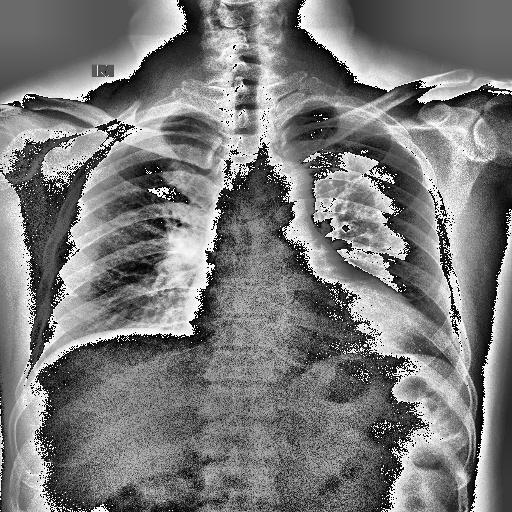0- Aortic enlargement: (261, 159, 319, 219), (256, 162, 314, 208)
3- Cardiomegaly: (182, 266, 432, 352), (186, 290, 443, 358), (183, 290, 436, 354)
